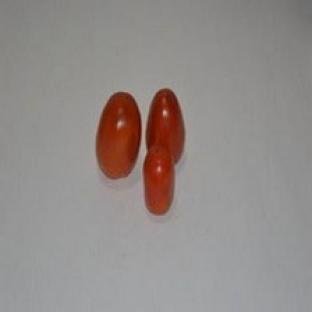Tomato: (97, 92, 140, 178), (147, 90, 185, 162), (144, 145, 175, 214)
